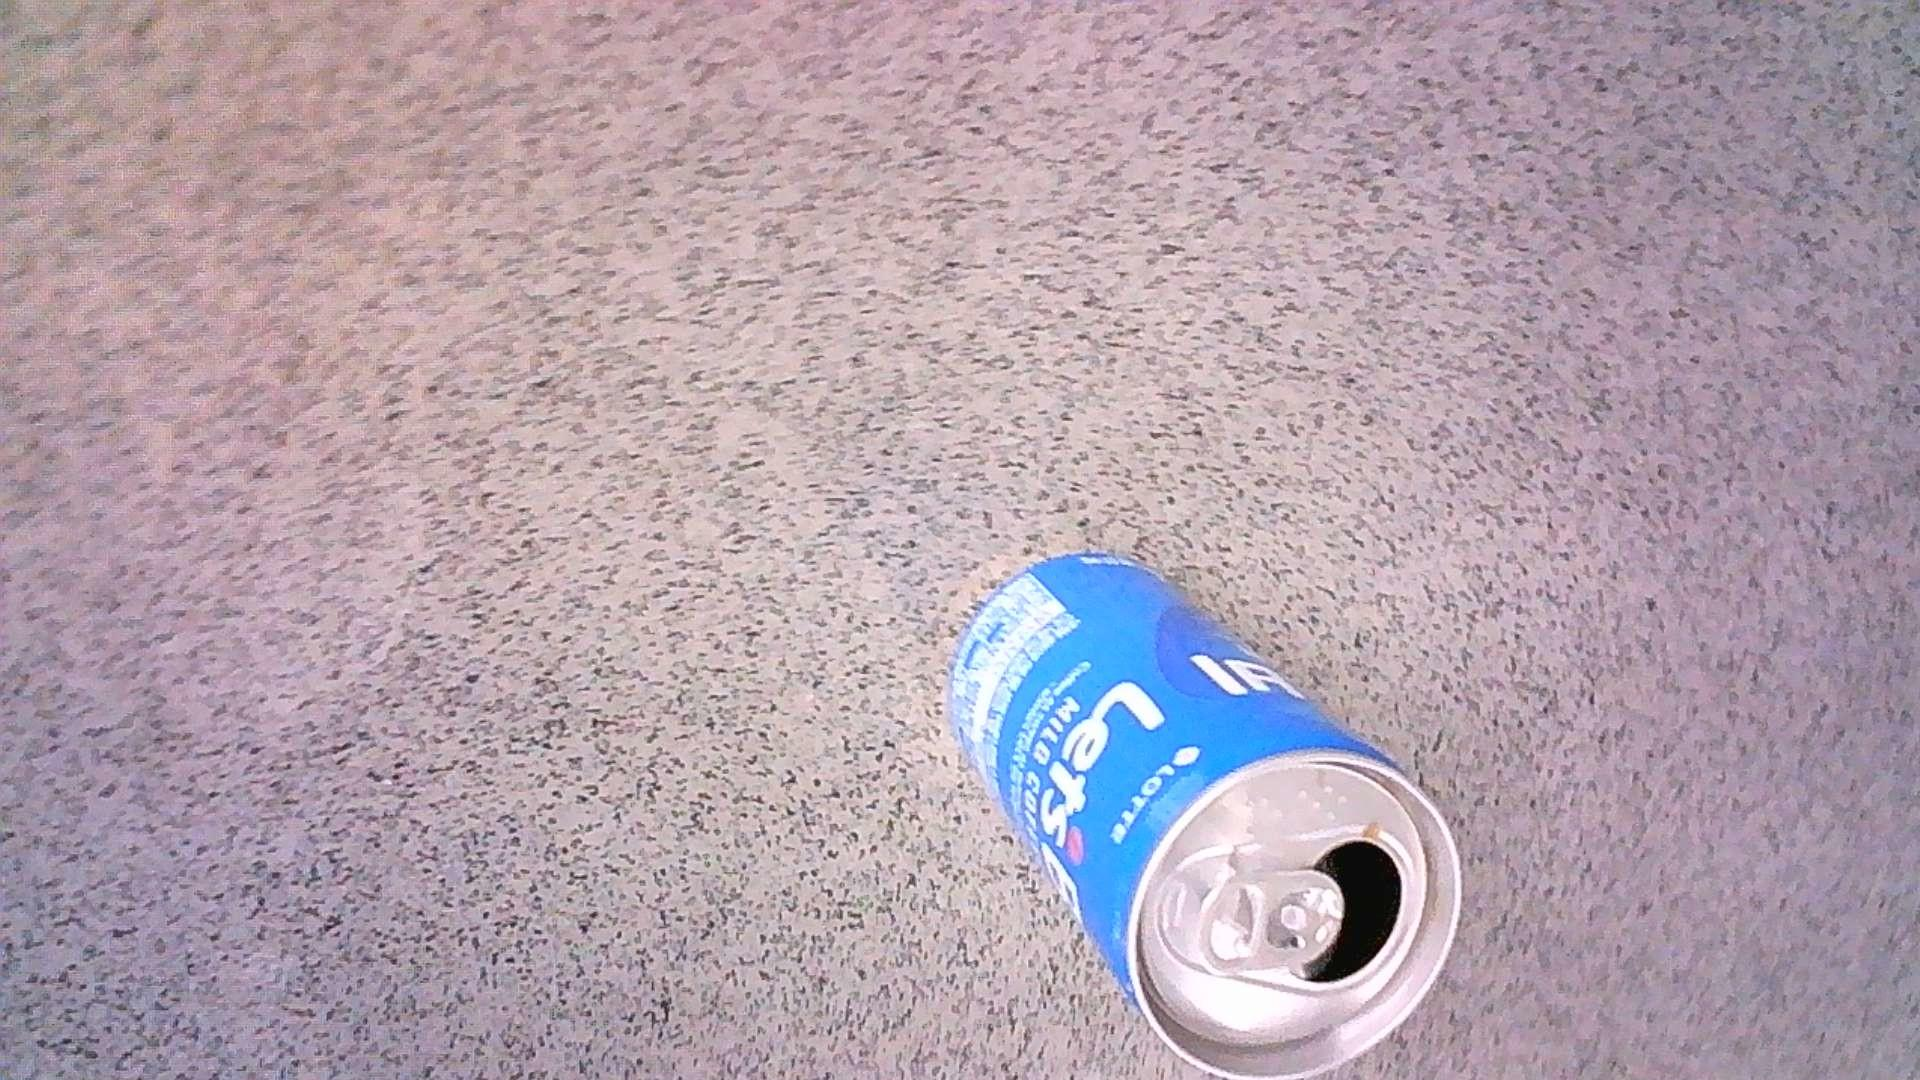letsbe: (947, 551, 1462, 1080)
